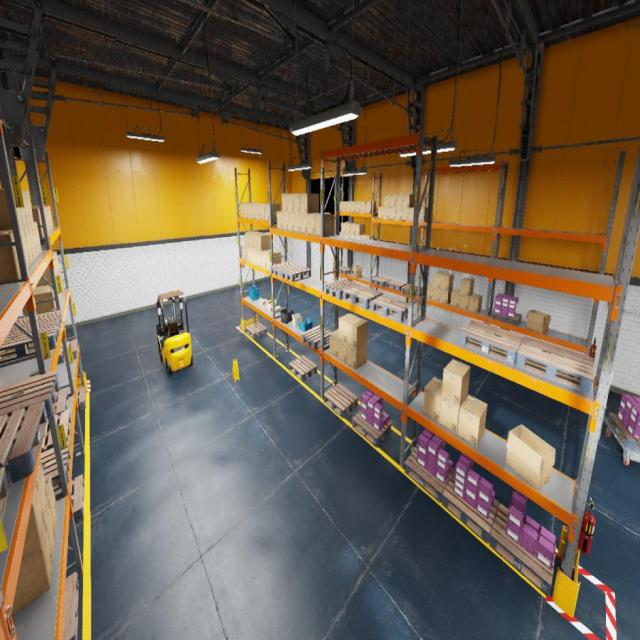box: (12, 520, 52, 616), (506, 425, 555, 490), (22, 479, 45, 558), (458, 394, 488, 447), (441, 359, 471, 406), (439, 395, 467, 434), (22, 288, 56, 317), (0, 189, 24, 230), (0, 232, 20, 281), (423, 376, 442, 423), (36, 457, 48, 519), (45, 476, 57, 532), (347, 317, 368, 348), (45, 497, 55, 558), (526, 309, 550, 333), (339, 313, 358, 343), (347, 342, 368, 369), (31, 207, 52, 230), (31, 207, 49, 231), (35, 206, 54, 228), (36, 264, 55, 286), (316, 213, 334, 236), (307, 212, 325, 235), (20, 228, 30, 268), (32, 208, 48, 232), (24, 227, 34, 264), (32, 208, 44, 237), (300, 194, 319, 212), (37, 206, 51, 230), (22, 191, 31, 226), (28, 225, 37, 260), (20, 190, 28, 228), (26, 190, 34, 224), (32, 223, 40, 257), (265, 203, 280, 220), (266, 251, 281, 268), (468, 294, 482, 312), (460, 278, 474, 296), (34, 222, 42, 253), (262, 250, 275, 267), (257, 233, 270, 250), (459, 293, 472, 310), (338, 338, 346, 364), (253, 233, 266, 249), (249, 232, 262, 248), (441, 274, 454, 290), (440, 288, 453, 304), (331, 330, 338, 358), (433, 272, 445, 288), (245, 232, 258, 246), (252, 203, 264, 218), (451, 289, 460, 308), (52, 251, 59, 274), (402, 195, 414, 208), (301, 213, 308, 233), (287, 212, 294, 231), (52, 253, 58, 275), (418, 208, 428, 221), (52, 255, 58, 276), (248, 203, 256, 218), (355, 223, 365, 235), (294, 213, 300, 232), (432, 286, 439, 302), (59, 270, 64, 292), (294, 194, 300, 212), (288, 194, 294, 212), (282, 212, 288, 230), (277, 211, 283, 229), (353, 265, 362, 277), (427, 282, 433, 300), (366, 202, 376, 212), (347, 201, 356, 212), (282, 193, 287, 212), (60, 272, 64, 295), (396, 194, 403, 207), (389, 194, 396, 207), (34, 285, 52, 290), (342, 222, 350, 233), (384, 194, 390, 207), (378, 206, 384, 219), (351, 223, 358, 234), (346, 222, 353, 233), (260, 204, 265, 219), (408, 208, 414, 220), (396, 208, 402, 220), (402, 208, 408, 220), (256, 204, 261, 218), (59, 275, 62, 298), (390, 208, 396, 219), (254, 248, 258, 264), (242, 244, 246, 260), (244, 203, 248, 218), (258, 250, 262, 265), (360, 202, 366, 212), (384, 207, 389, 219), (240, 203, 244, 217), (249, 248, 253, 262), (342, 201, 347, 212), (356, 202, 361, 212), (351, 202, 356, 212), (274, 306, 282, 312), (268, 305, 276, 311), (260, 299, 268, 305), (246, 246, 249, 261), (268, 300, 276, 305), (364, 236, 374, 240), (360, 234, 369, 238), (266, 300, 271, 306), (58, 294, 60, 304), (340, 201, 342, 211), (59, 294, 61, 302), (340, 231, 342, 235)
forklift: (156, 290, 194, 375)
pallets: (489, 503, 556, 597), (515, 337, 594, 396), (442, 470, 498, 543), (0, 402, 48, 483), (0, 370, 59, 430), (459, 319, 523, 366), (404, 443, 454, 502), (0, 322, 59, 364), (352, 410, 391, 448), (41, 442, 71, 491), (56, 474, 84, 524), (41, 410, 71, 453), (323, 383, 358, 418), (608, 412, 640, 450), (9, 310, 62, 332), (369, 296, 408, 322), (63, 572, 78, 639), (343, 284, 383, 308), (324, 278, 359, 300), (301, 326, 332, 350), (288, 356, 316, 382), (0, 467, 10, 526), (57, 339, 78, 364), (54, 389, 69, 424), (491, 310, 521, 326), (280, 266, 310, 281), (270, 262, 298, 277), (245, 322, 267, 338), (76, 386, 86, 411), (401, 284, 422, 295), (386, 280, 406, 291), (371, 276, 391, 286), (340, 266, 352, 274)
